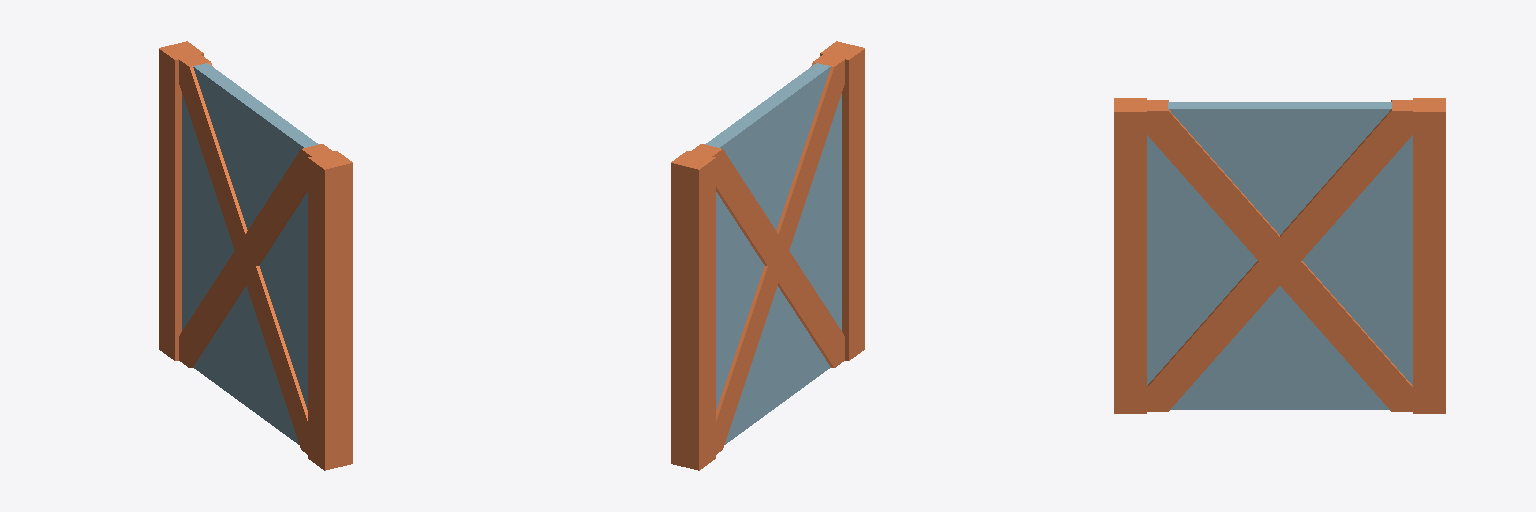
The model's file is wallDetailCross.obj.
3 renders of one model, left to right at view 1: azimuth 30°, elevation 25°; view 2: azimuth 150°, elevation 25°; view 3: azimuth 270°, elevation 25°, orthographic.
Parts seen in each view (by area): view 1: wallDetailCross; view 2: wallDetailCross; view 3: wallDetailCross.
Part boxes in pixels (x1,y1,x2,y2): wallDetailCross: (159, 41, 352, 470); wallDetailCross: (671, 41, 864, 470); wallDetailCross: (1114, 98, 1445, 413).
Size of the model in its own units: 0.1 by 1 by 1.